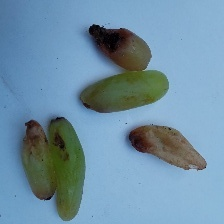grapes: (28, 3, 198, 180)
